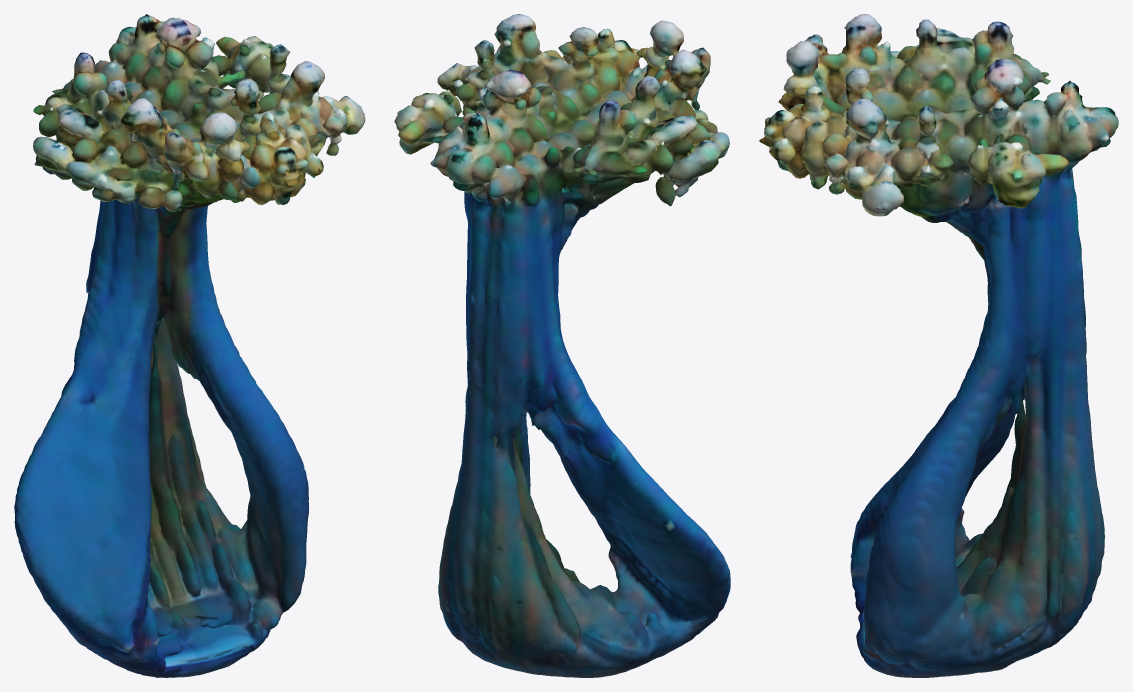
The picture shows the model from 3 angles, left to right: view 1: azimuth 30°, elevation 25°; view 2: azimuth 150°, elevation 25°; view 3: azimuth 270°, elevation 25°; orthographic projection. The views are drawn at different scales.
Visible parts, largest first — view 1: geometry_0; view 2: geometry_0; view 3: geometry_0.
Part boxes in pixels (bbox=[...]): geometry_0: bbox=[14, 14, 365, 677]; geometry_0: bbox=[394, 14, 730, 677]; geometry_0: bbox=[759, 14, 1118, 677].
Bounding box in the file's own units: 0.5426 × 1 × 0.5321.
Materials: 1 (1 with a texture image).
